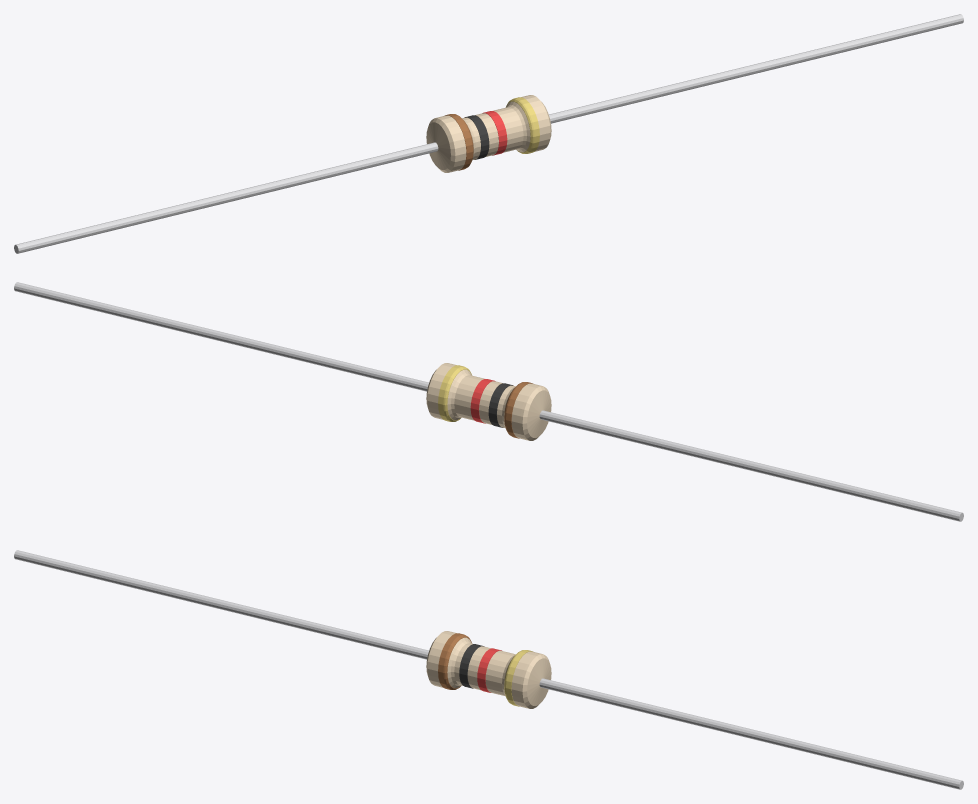
Rendered from Resistencia_1kOhm.glb.
3 views of the same model, one above another, from view 1: azimuth 30°, elevation 25°; view 2: azimuth 150°, elevation 25°; view 3: azimuth 330°, elevation 25° (orthographic).
Visible parts, largest first — view 1: Cuerpo_Resistencia, Pata_Izquierda, Pata_Derecha, Banda4_Dorado; view 2: Cuerpo_Resistencia, Pata_Izquierda, Pata_Derecha, Banda4_Dorado; view 3: Cuerpo_Resistencia, Pata_Derecha, Pata_Izquierda, Banda1_Marron.
Boxes of the visible parts, left/top/right/bottom form: Cuerpo_Resistencia: left=426, top=95, right=551, bottom=172; Pata_Izquierda: left=14, top=142, right=438, bottom=253; Pata_Derecha: left=549, top=14, right=963, bottom=123; Banda4_Dorado: left=506, top=97, right=539, bottom=153; Cuerpo_Resistencia: left=426, top=363, right=551, bottom=440; Pata_Izquierda: left=539, top=410, right=963, bottom=521; Pata_Derecha: left=14, top=282, right=428, bottom=391; Banda4_Dorado: left=438, top=365, right=471, bottom=421; Cuerpo_Resistencia: left=426, top=631, right=551, bottom=708; Pata_Derecha: left=539, top=678, right=963, bottom=789; Pata_Izquierda: left=14, top=550, right=428, bottom=659; Banda1_Marron: left=438, top=633, right=471, bottom=689.
Bounding box in the file's own units: 0.058 × 0.00304 × 0.00304.
